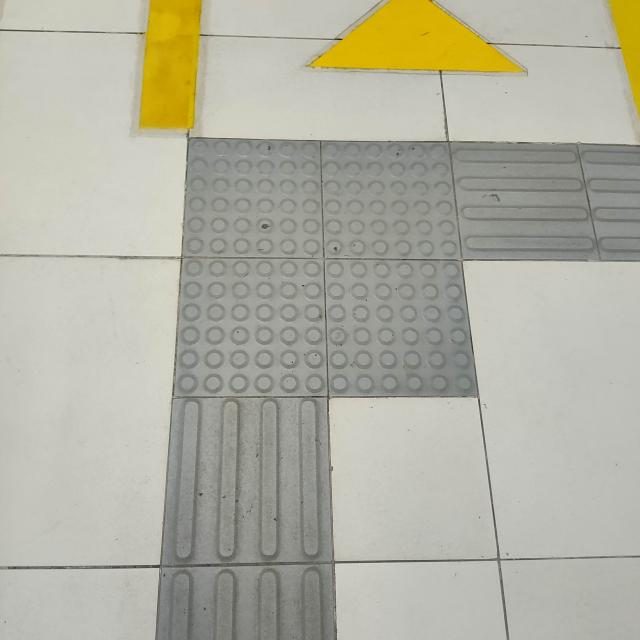kanan: (118, 72, 640, 464)
